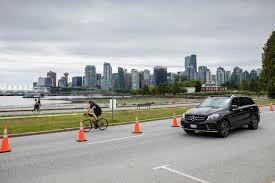car: (180, 96, 261, 138)
cone: (74, 120, 90, 144), (1, 126, 12, 152), (132, 116, 142, 133), (170, 112, 179, 128), (268, 103, 274, 112)
